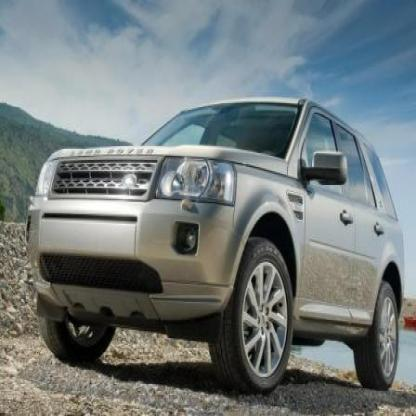Vehicle: (26, 95, 410, 399)
